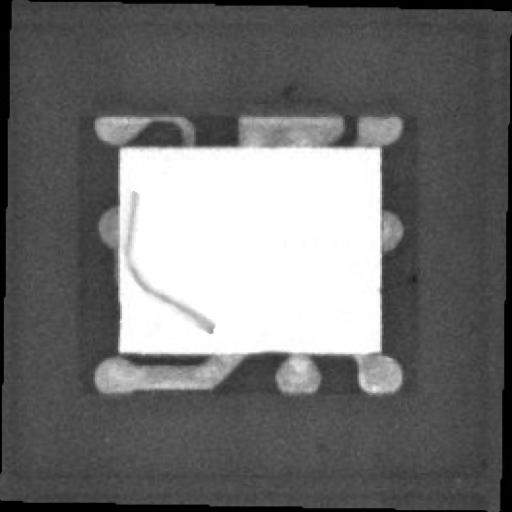DIE_INK: (113, 196, 202, 345)
